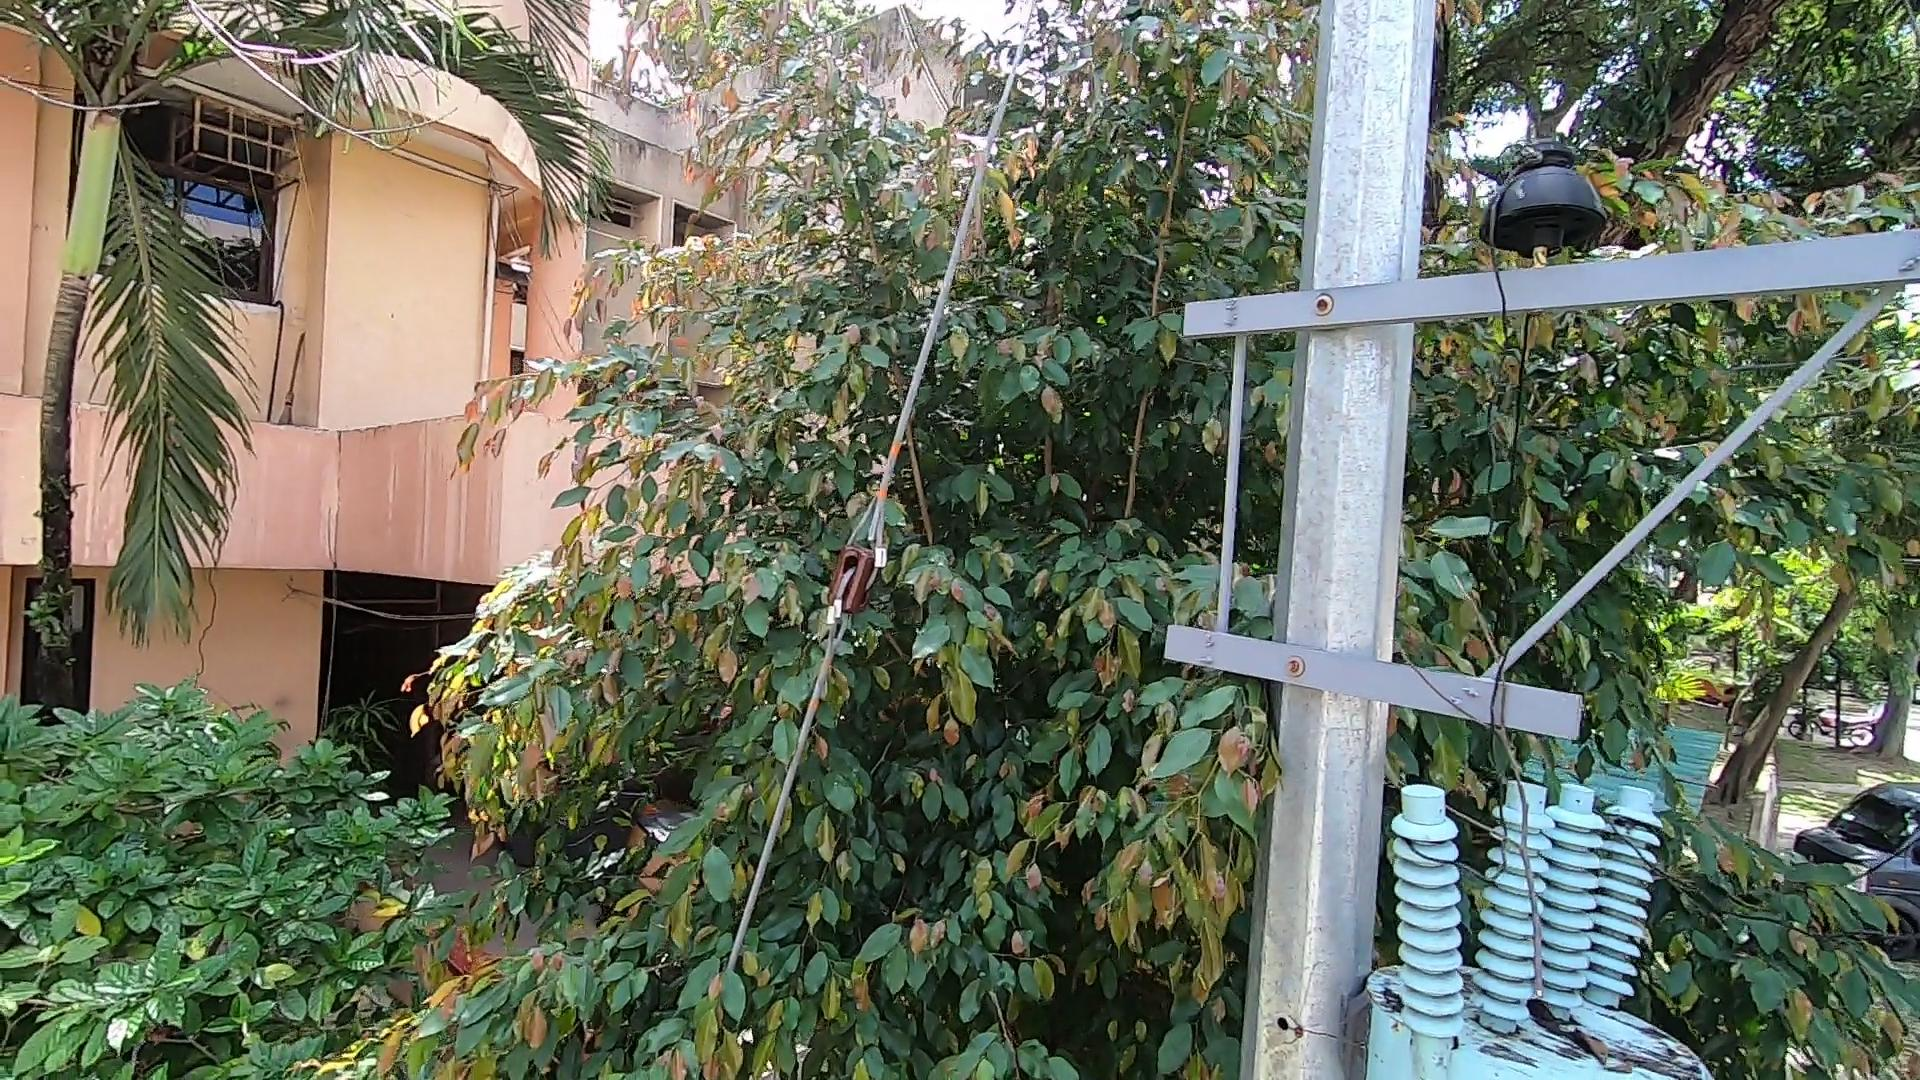leaf: (1534, 986, 1640, 1080)
tree branch: (1396, 566, 1557, 1018)
